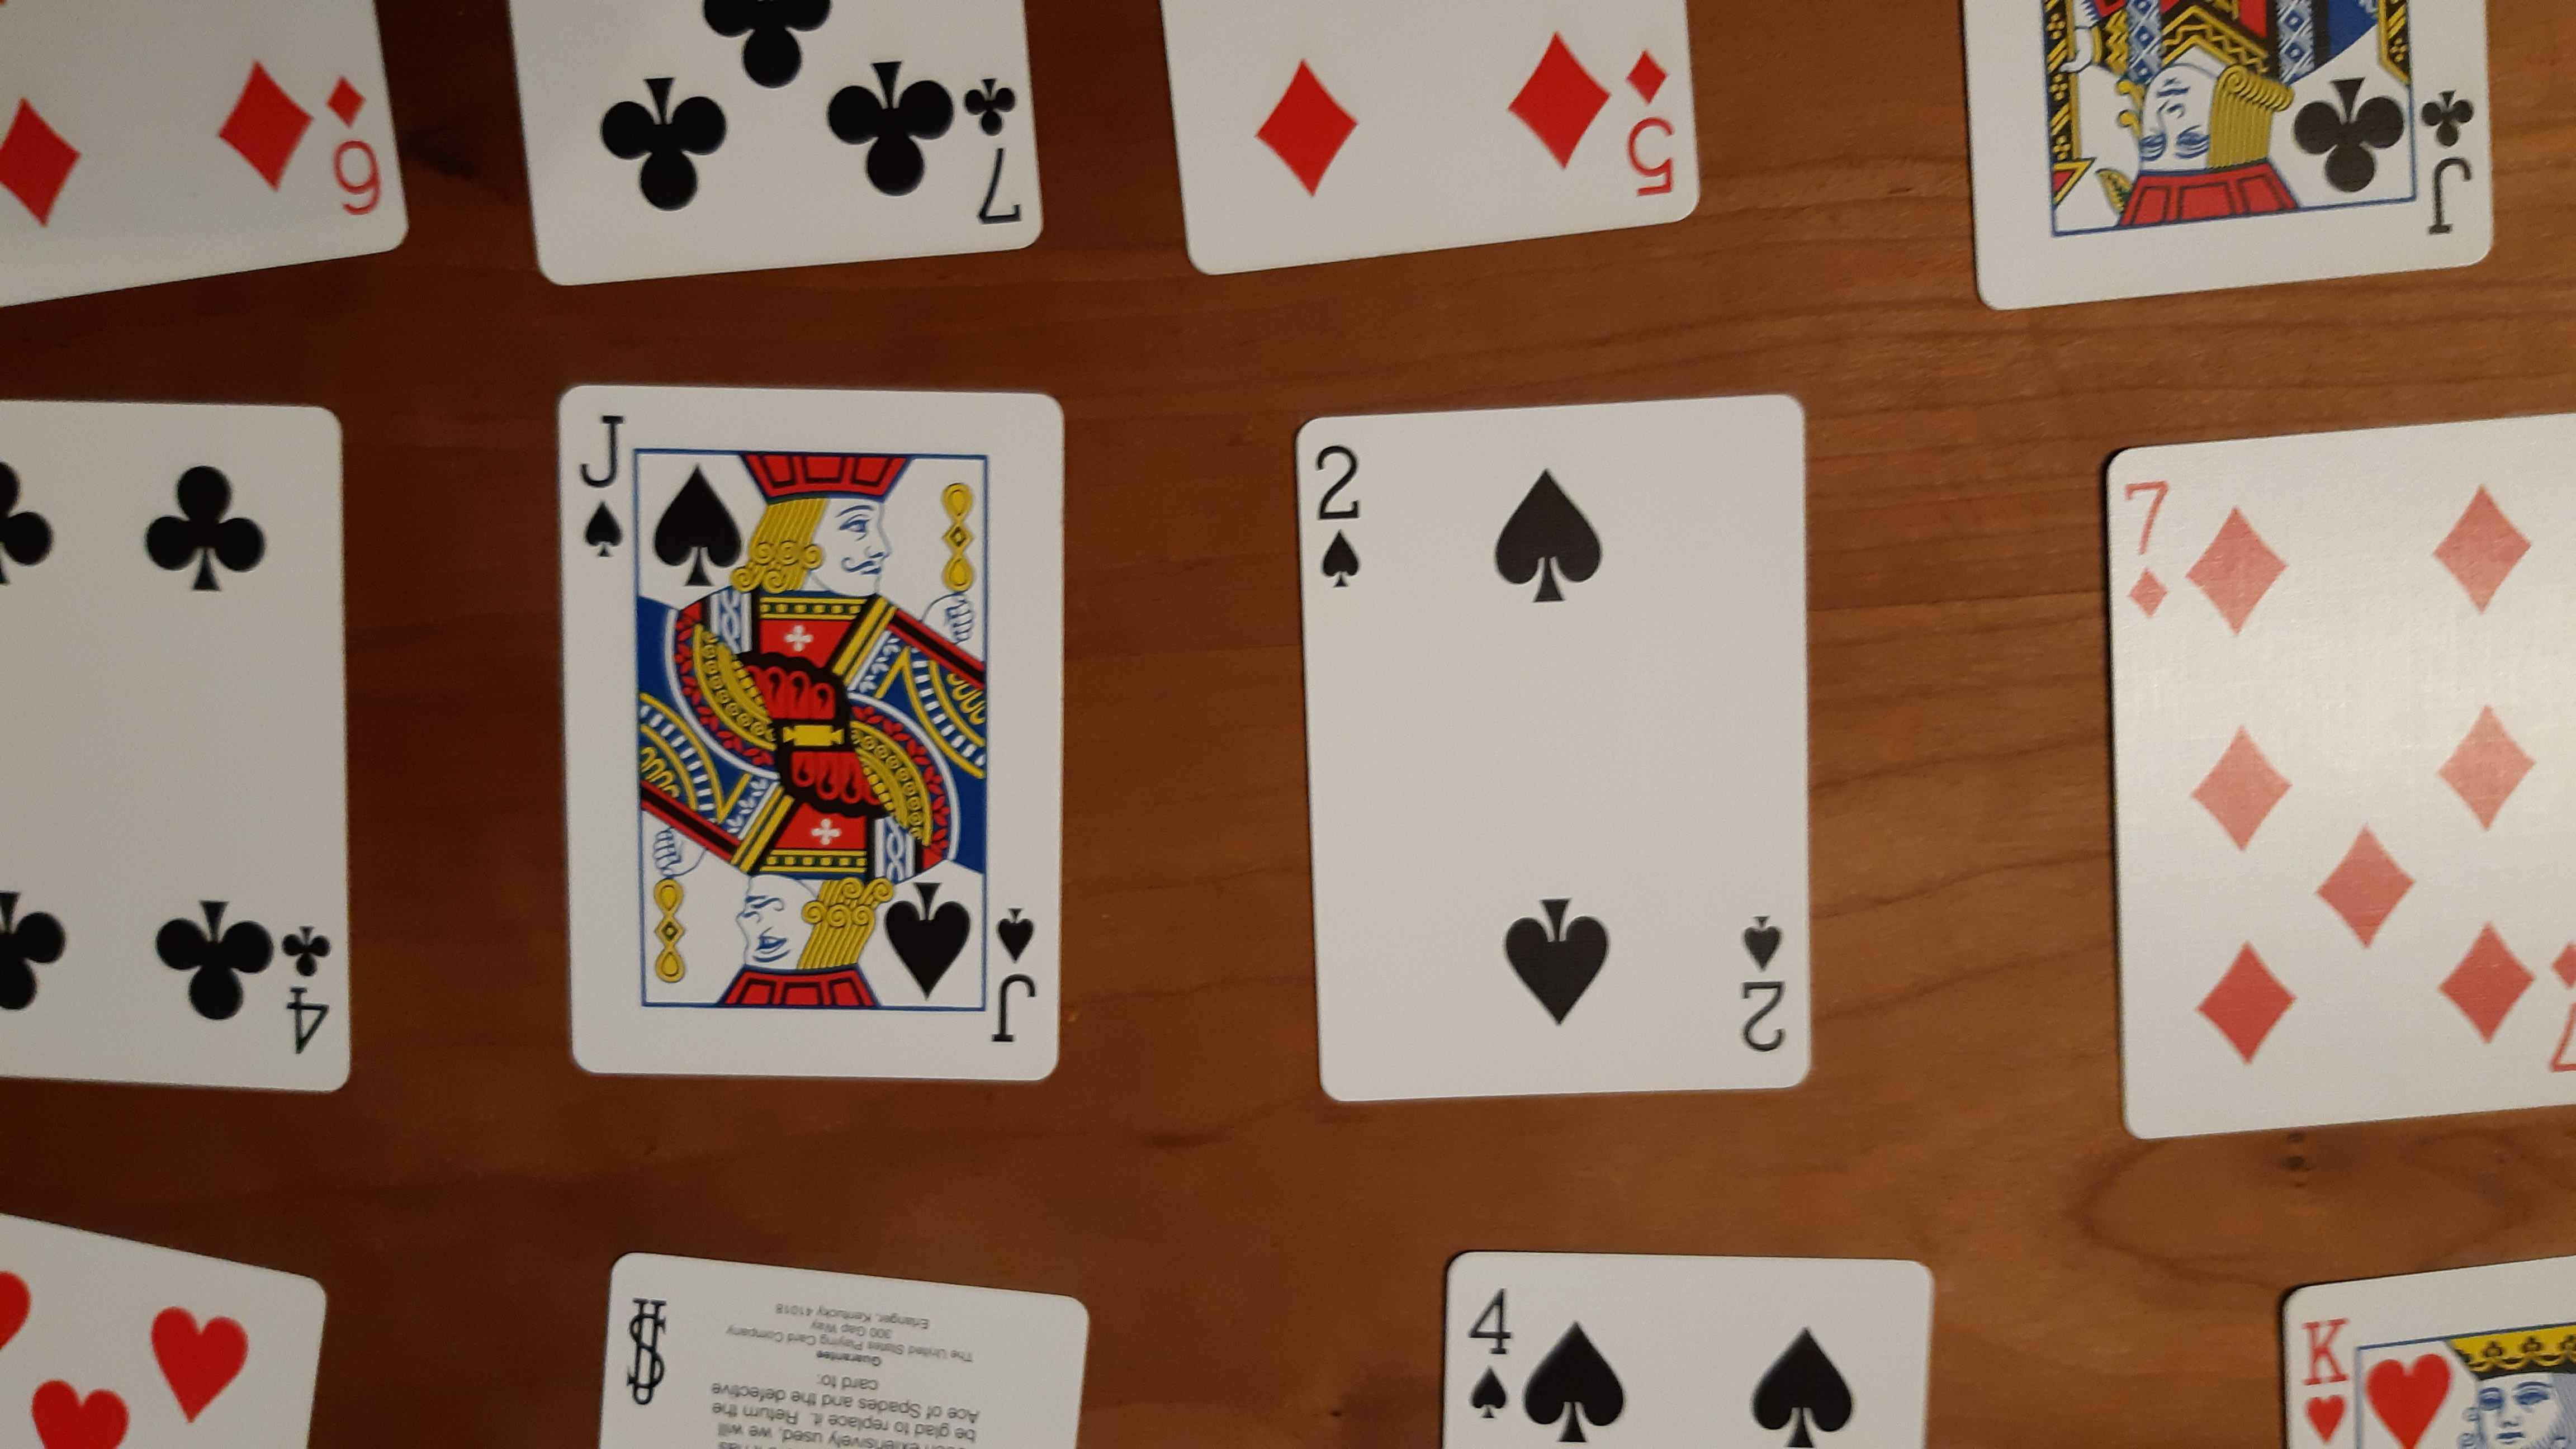Black_Club_7: (964, 69, 1033, 235)
Black_Club_Jack: (2419, 83, 2482, 248)
Black_Spade_2: (1302, 439, 1380, 600), (1729, 908, 1792, 1065)
Black_Spade_4: (1458, 1279, 1518, 1428)
Black_Spade_Jack: (573, 407, 633, 568), (985, 897, 1044, 1047)
Red_Diamond_5: (1622, 42, 1686, 202)
Red_Diamond_7: (2118, 469, 2181, 623)
Red_Heart_King: (2291, 1304, 2358, 1444)
